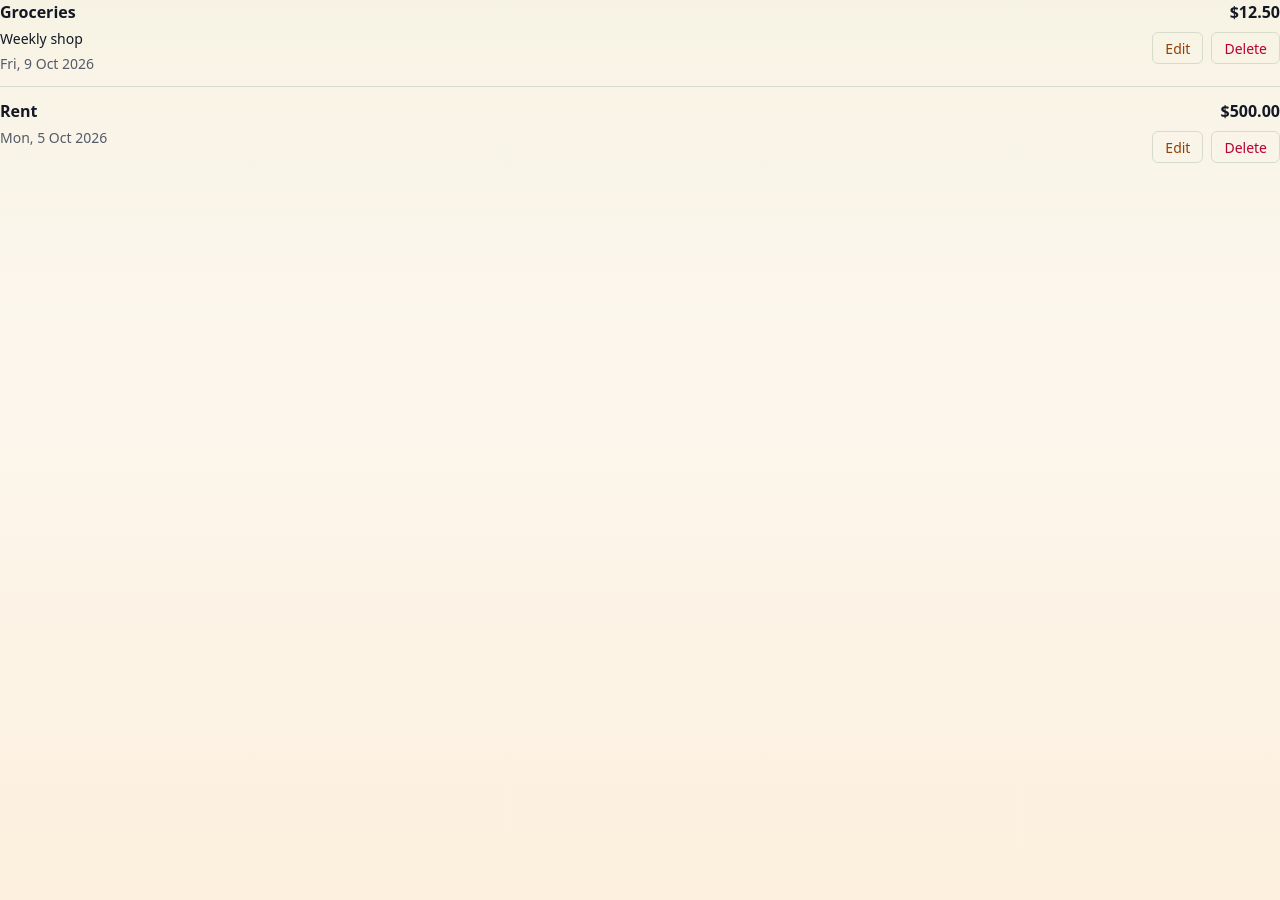
editing a transaction › saves the changes, updates the list and storage, and announces it
Step 1. Click the button with aria-label "Edit Groceries, $12.50, Fri, 9 Oct 2026" → (1178, 48), box [1152,32,1204,64]
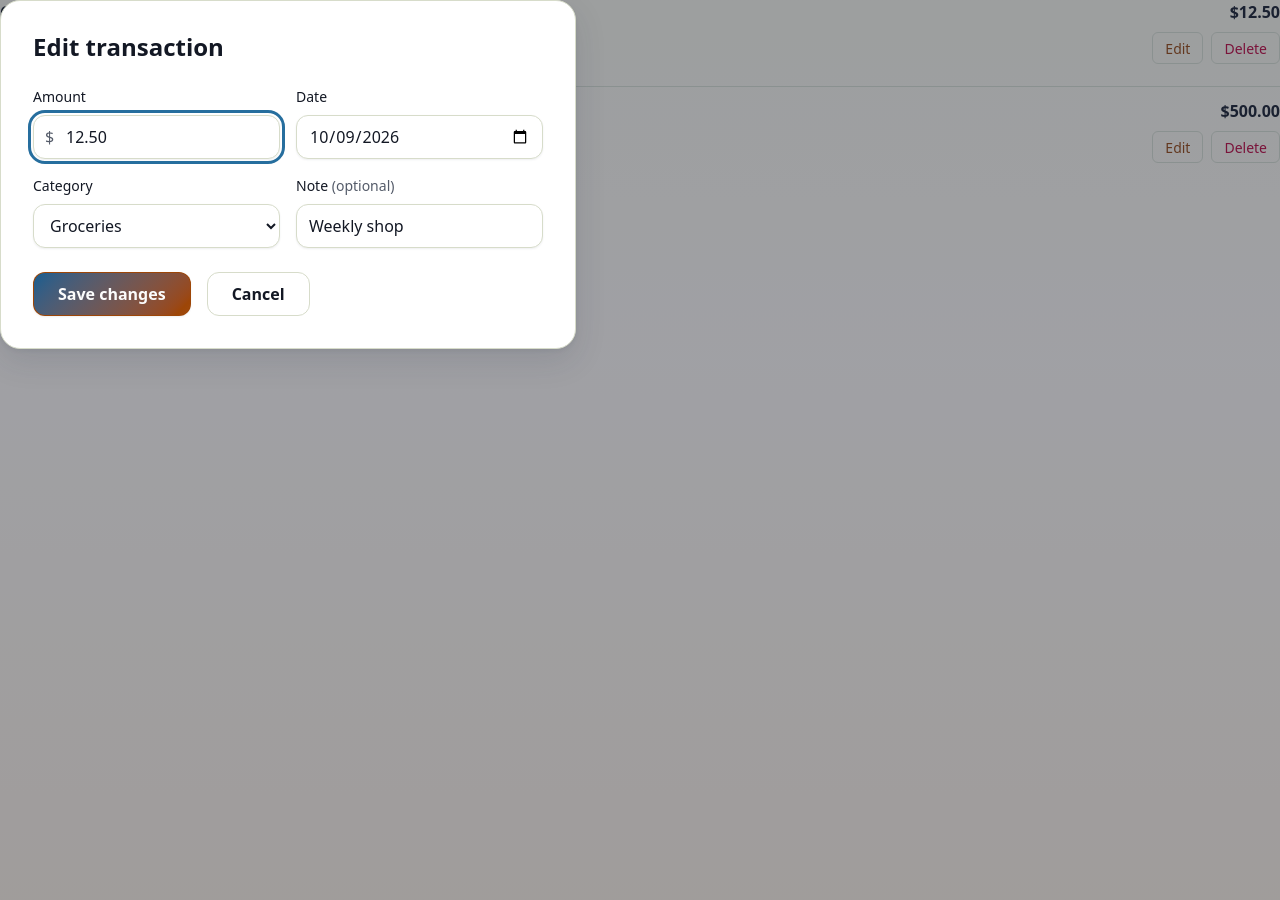
Step 2. Replace the text in the field labelled "Amount" with "15" → (156, 137), box [33,115,280,159]
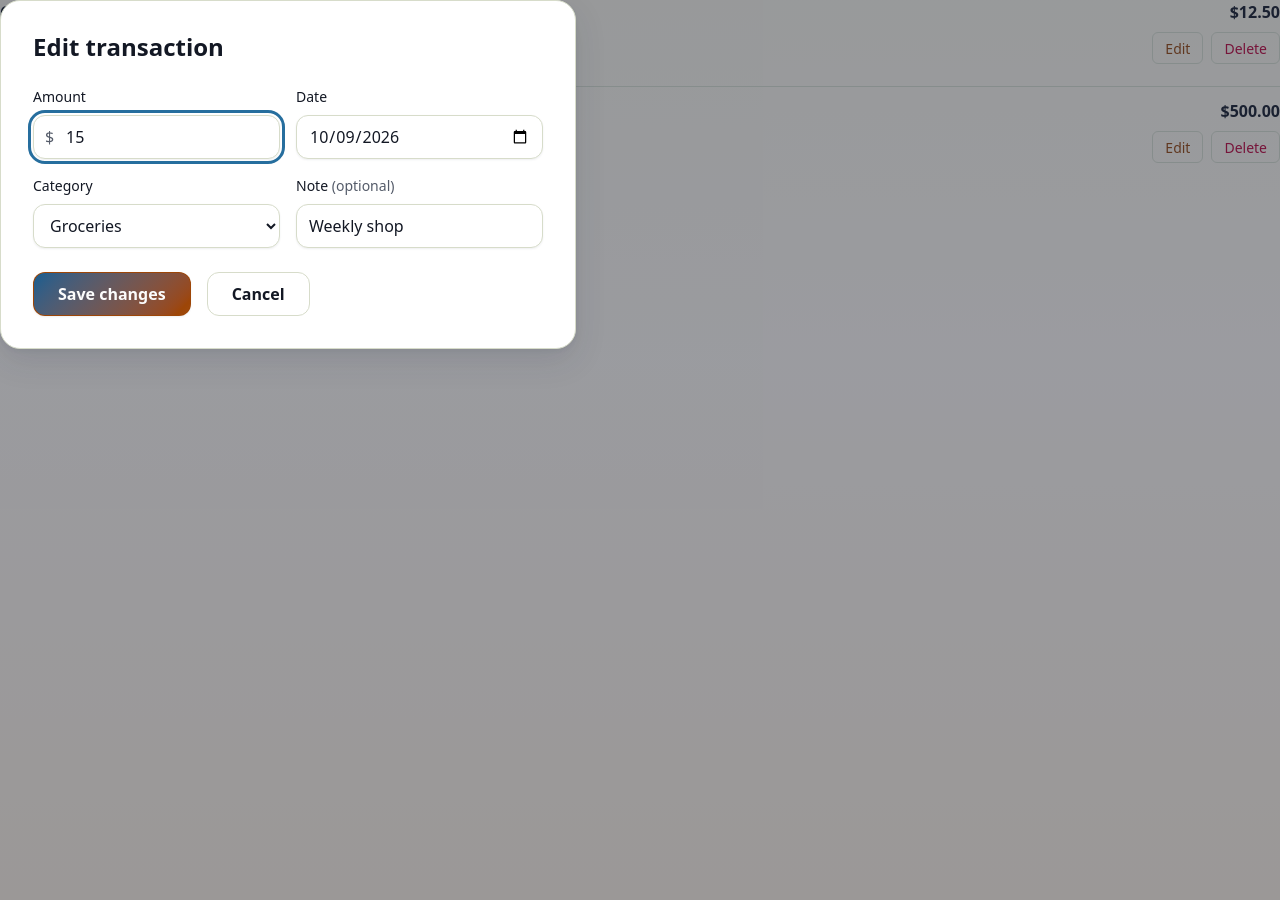
Step 3. Select "Rent" in the dropdown labelled "Category" → (156, 226), box [33,204,280,248]
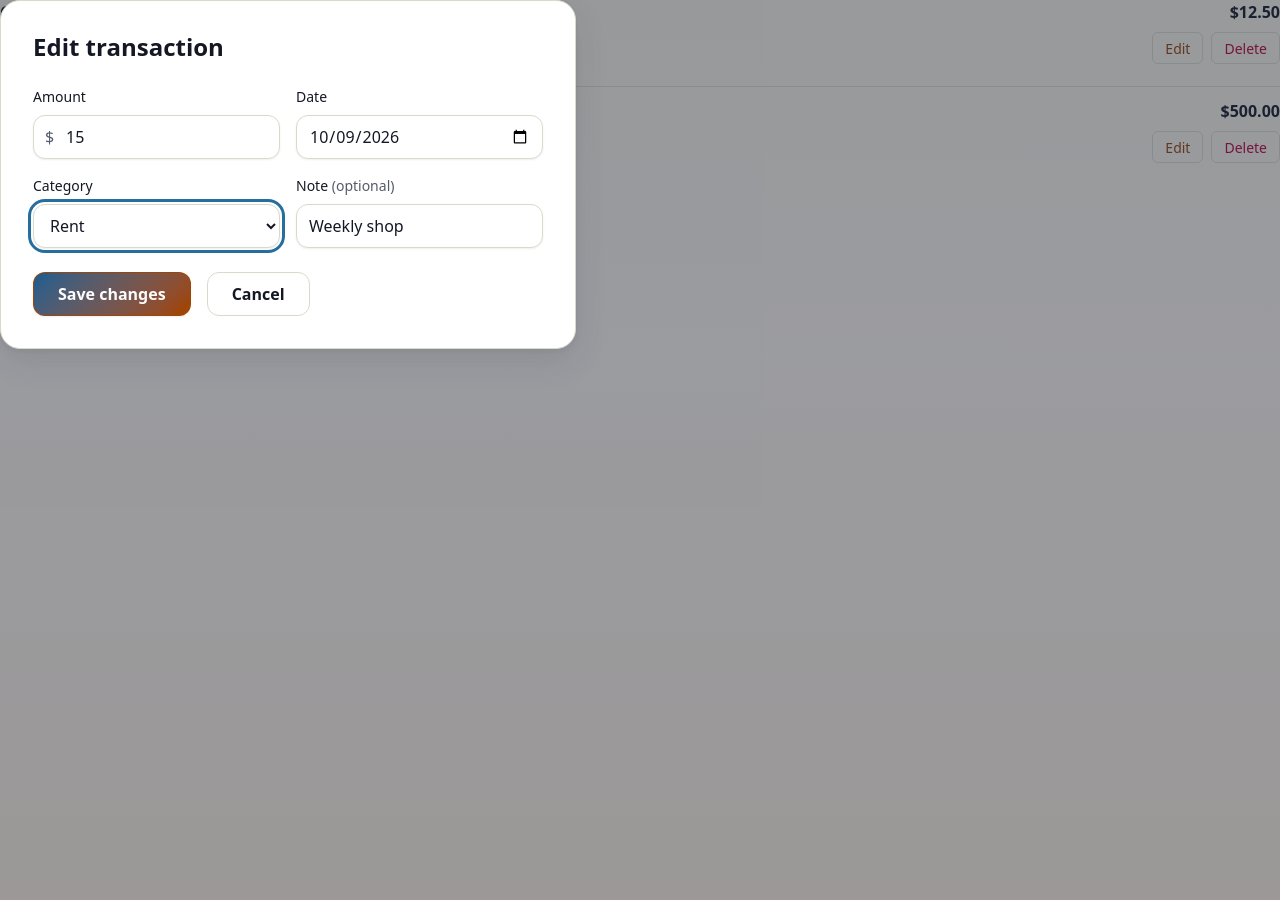
Step 4. Click the button "Save changes" → (112, 294), box [33,272,191,316]
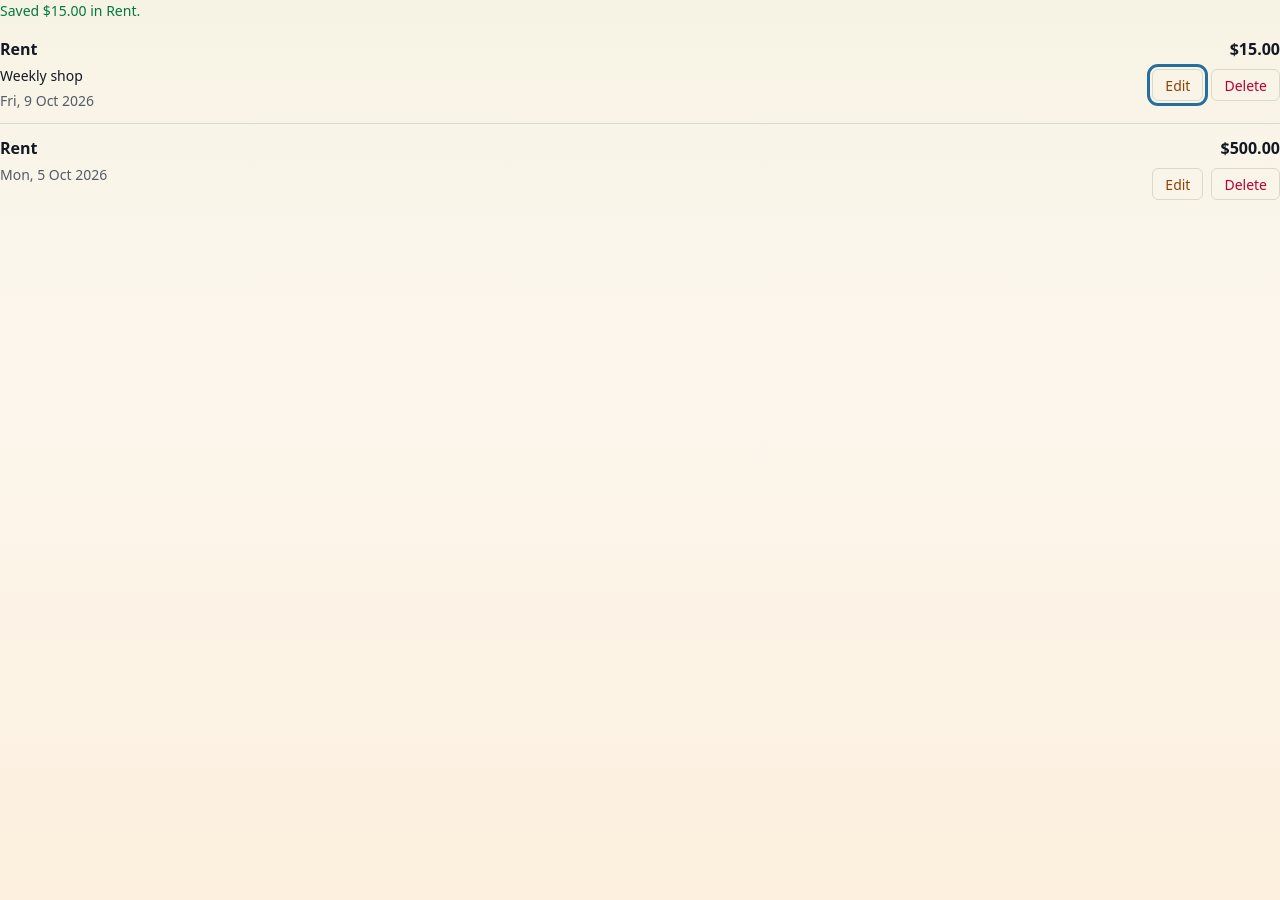
Result: the dialog is gone
Result: the message reads "Saved $15.00 in Rent." at [0,1,140,20]
Result: the list item "Rent Weekly shop Fri, 9 Oct 2026 $15.00 Edit Delete" is shown at [0,37,1279,123]
